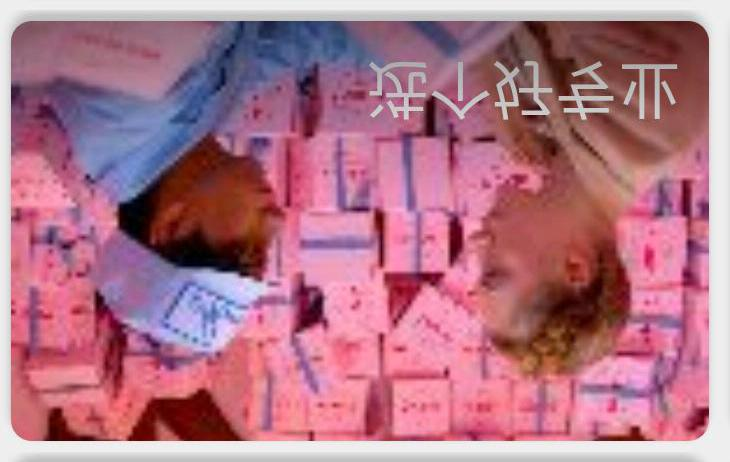ImgView: (1, 1, 729, 461)
